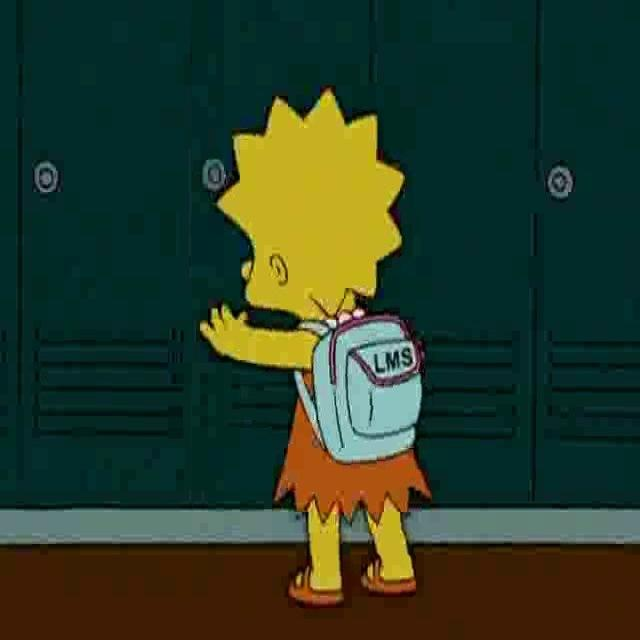Lisa Simpson: (214, 85, 406, 326)
